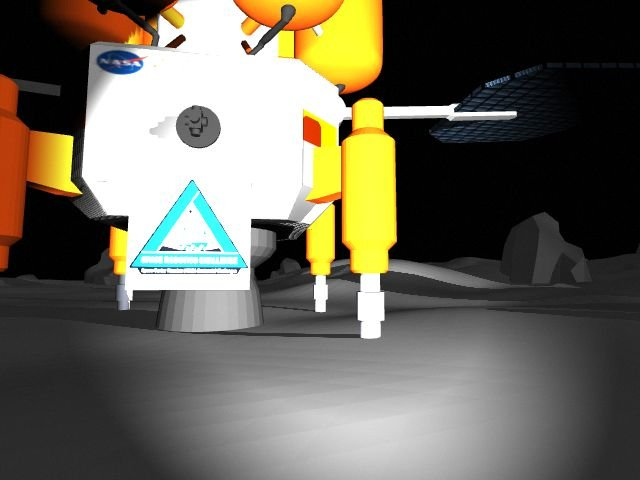basemarker: (127, 177, 249, 276)
